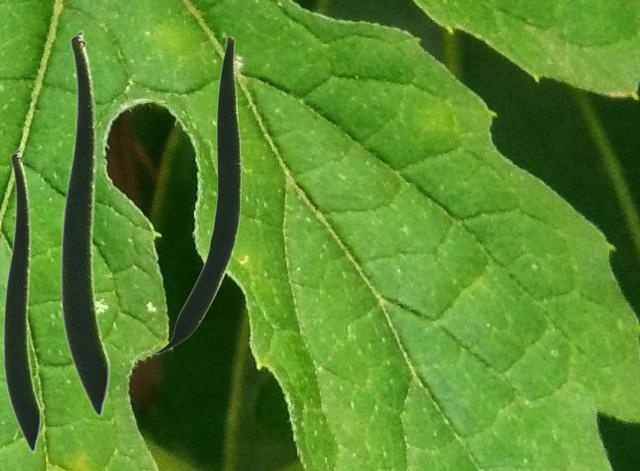french_bean: (152, 35, 240, 353), (59, 29, 110, 417), (2, 148, 41, 452)
